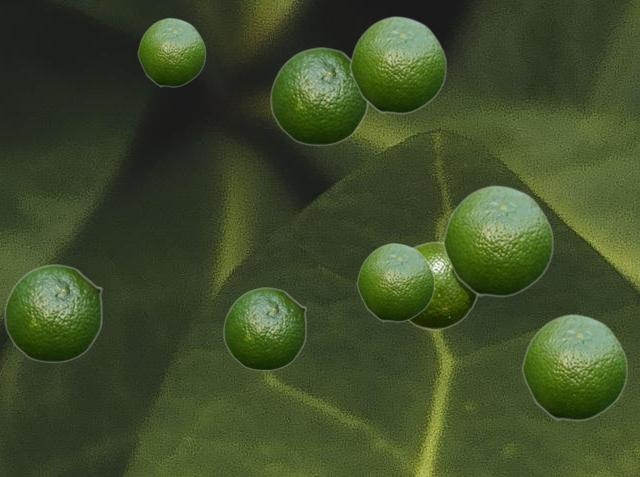calamansi: (442, 184, 553, 296), (521, 313, 627, 420), (4, 264, 102, 362), (270, 47, 368, 145), (349, 15, 446, 113), (223, 287, 306, 370), (356, 242, 434, 321), (408, 241, 478, 329), (137, 17, 205, 86)
